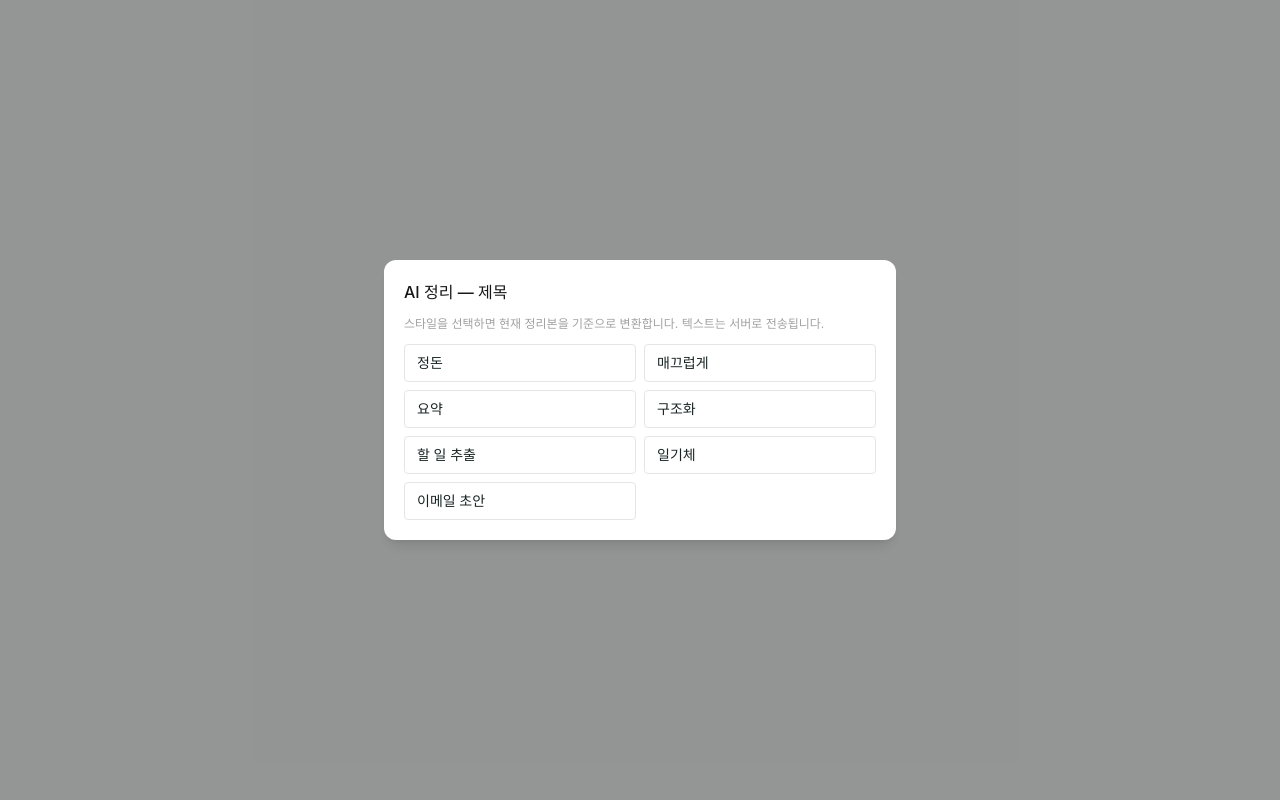
Test: TransformDialog › 프록시 인증에서 사라진 모델은 구체적인 안내를 보여준다
Click the button "요약": x=520, y=409 x1=404 y1=390 x2=636 y2=428
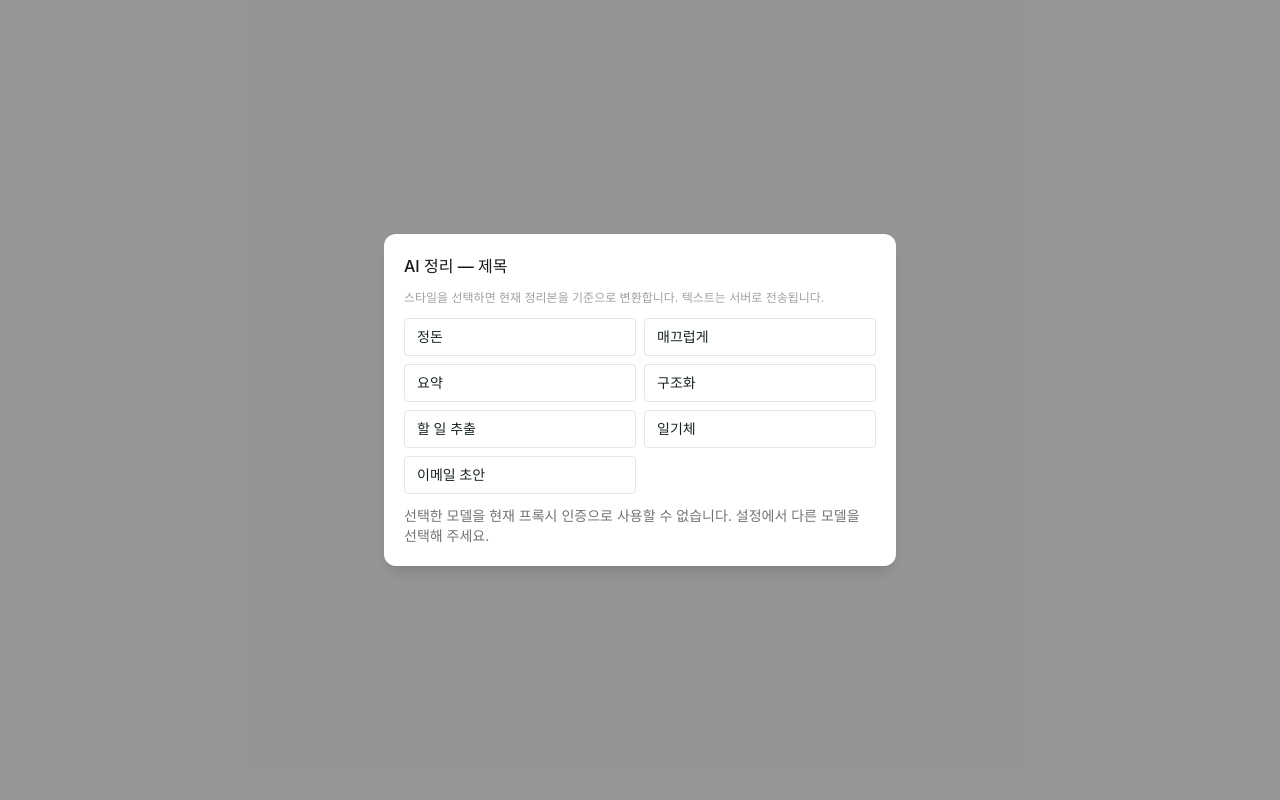
Expected: the text "선택한 모델을 현재 프록시 인증으로 사용할 수 없습니다. 설정에서 다른 모델을 선택해 주세요." is shown, x1=404 y1=506 x2=876 y2=546
